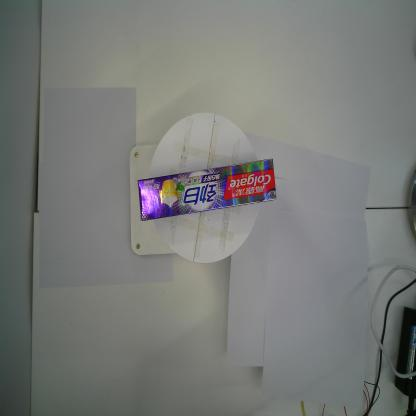Personal Hygiene: (139, 159, 277, 221)
